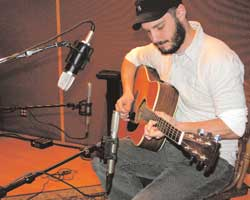guitar: (117, 65, 222, 177)
